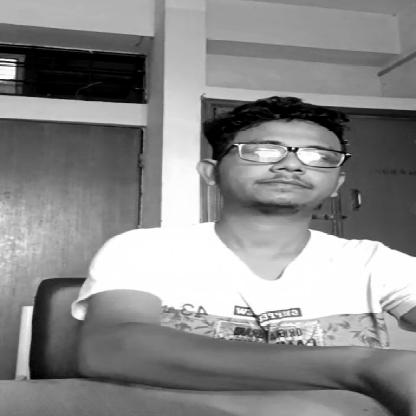Normal: (220, 114, 348, 220)
